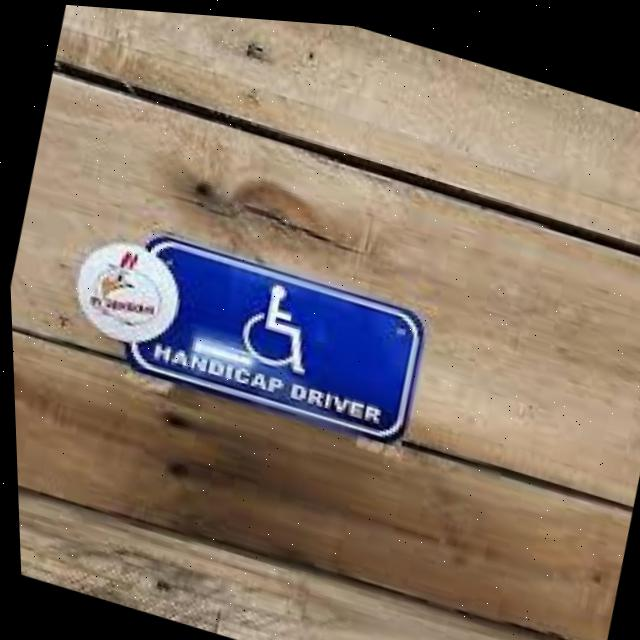symbol_of_access: (226, 269, 326, 380)
